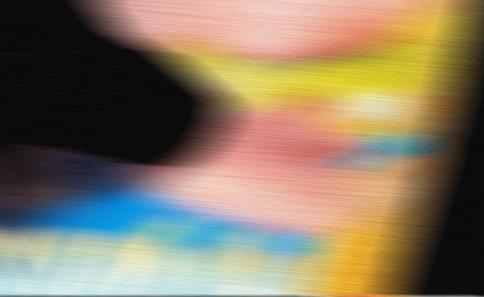Afritada: (303, 296, 484, 297)
argentina meatloaf: (0, 0, 483, 296)
